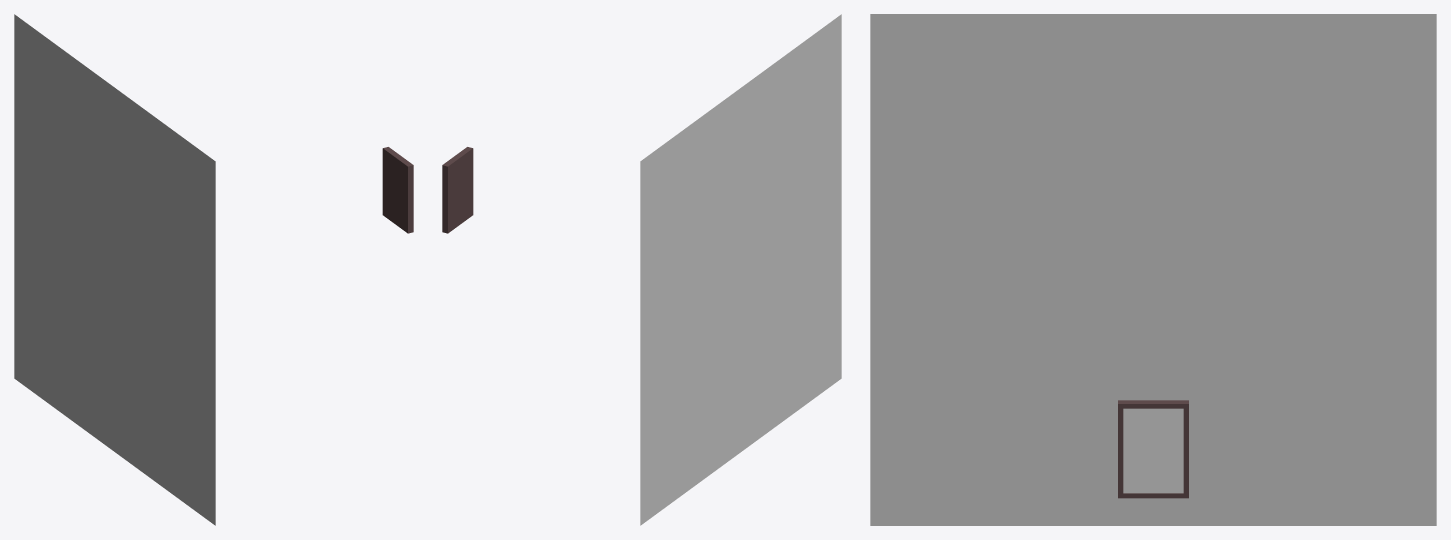
File: guong.fbx
3 renders of one model, left to right at view 1: azimuth 30°, elevation 25°; view 2: azimuth 150°, elevation 25°; view 3: azimuth 270°, elevation 25°, orthographic. The views are drawn at different scales.
Parts seen in each view (by area): view 1: 78144960_3082834488412864_7237178803254984704_o, Cube; view 2: 78144960_3082834488412864_7237178803254984704_o, Cube; view 3: 78144960_3082834488412864_7237178803254984704_o, Cube.
Part boxes in pixels (x1,y1,x2,y2): 78144960_3082834488412864_7237178803254984704_o: (14,14,215,525); Cube: (382,147,413,233); 78144960_3082834488412864_7237178803254984704_o: (640,14,841,525); Cube: (442,147,473,233); 78144960_3082834488412864_7237178803254984704_o: (870,14,1436,525); Cube: (1118,400,1188,498).
Size of the model in its own units: 1311 by 1596 by 1599.
